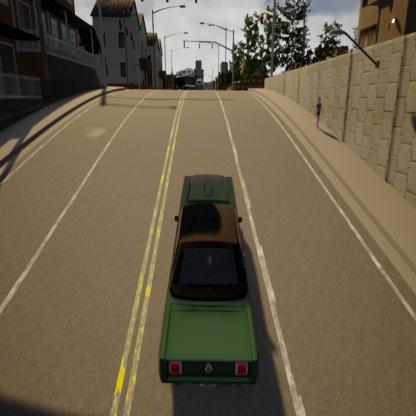Cars: (148, 160, 274, 398), (167, 63, 197, 94), (192, 70, 208, 99)
Pedestrian: (315, 88, 328, 138)
